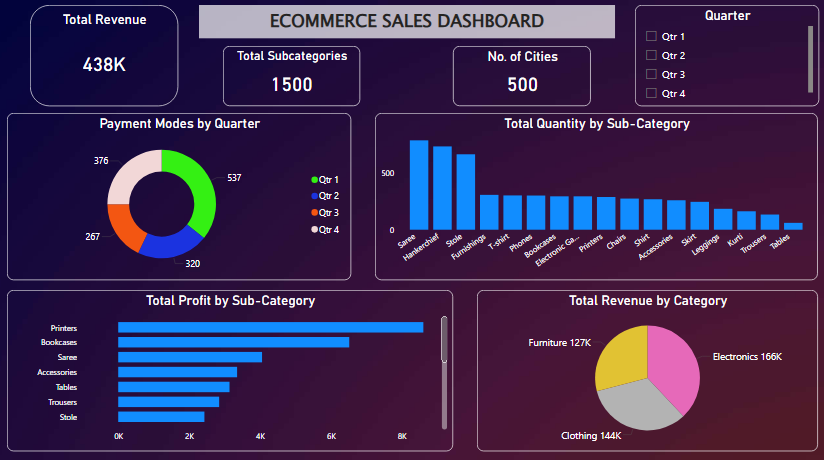

Layout of this report page (visuals, bound fields, positions):
{"tool":"powerbi","page":{"name":"Dashboard 3","canvas":[1280,720],"ordinal":2},"visuals":[{"type":"barChart","title":"Total Profit by Sub-Category","fields":{"Category":["Details.Sub-Category"],"Y":["Sum(Details.Profit)"]},"box":[24.5,451.7,682.9,246.5],"z":0},{"type":"pieChart","title":"Total Revenue by Category","fields":{"Category":["Details.Category"],"Y":["Sum(Details.Amount)"]},"box":[744.1,451.7,522.1,246.5],"z":1000},{"type":"card","title":"Total Subcategories","fields":{"Values":["CountNonNull(Details.Sub-Category)"]},"box":[355.2,78.1,209.8,91.9],"z":2000},{"type":"card","title":"No. of Cities","fields":{"Values":["CountNonNull(Orders.City)"]},"box":[707.4,78.1,211.3,91.9],"z":3000},{"type":"card","title":"Total Revenue","fields":{"Values":["Sum(Details.Amount)"]},"box":[59.7,15.3,226.6,154.6],"z":4000},{"type":"textbox","box":[318.5,15.3,636.9,50.5],"z":5000},{"type":"columnChart","title":"Total Quantity by Sub-Category","fields":{"Category":["Details.Sub-Category"],"Y":["Sum(Details.Quantity)"]},"box":[587.9,180.7,678.3,255.7],"z":6000},{"type":"donutChart","title":"Payment Modes by Quarter","fields":{"Category":["Orders.Order Date.Variation.Date Hierarchy.Quarter"],"Y":["CountNonNull(Details.PaymentMode)"]},"box":[24.5,180.7,526.7,255.7],"z":7000},{"type":"slicer","title":"Quarter","fields":{"Values":["Orders.Order Date.Variation.Date Hierarchy.Quarter"]},"box":[986,15.3,281.7,154.6],"z":8000}]}

Visuals, with their boxes in screenshot pixels (x1, y1, x2, y2), scaled from the page's 1280x720 canvas onto the 824x460 screenshot:
"Total Profit by Sub-Category" barChart: <bbox>16, 289, 455, 446</bbox>
"Total Revenue by Category" pieChart: <bbox>479, 289, 815, 446</bbox>
"Total Subcategories" card: <bbox>229, 50, 364, 109</bbox>
"No. of Cities" card: <bbox>455, 50, 591, 109</bbox>
"Total Revenue" card: <bbox>38, 10, 184, 109</bbox>
textbox: <bbox>205, 10, 615, 42</bbox>
"Total Quantity by Sub-Category" columnChart: <bbox>378, 115, 815, 279</bbox>
"Payment Modes by Quarter" donutChart: <bbox>16, 115, 355, 279</bbox>
"Quarter" slicer: <bbox>635, 10, 816, 109</bbox>
